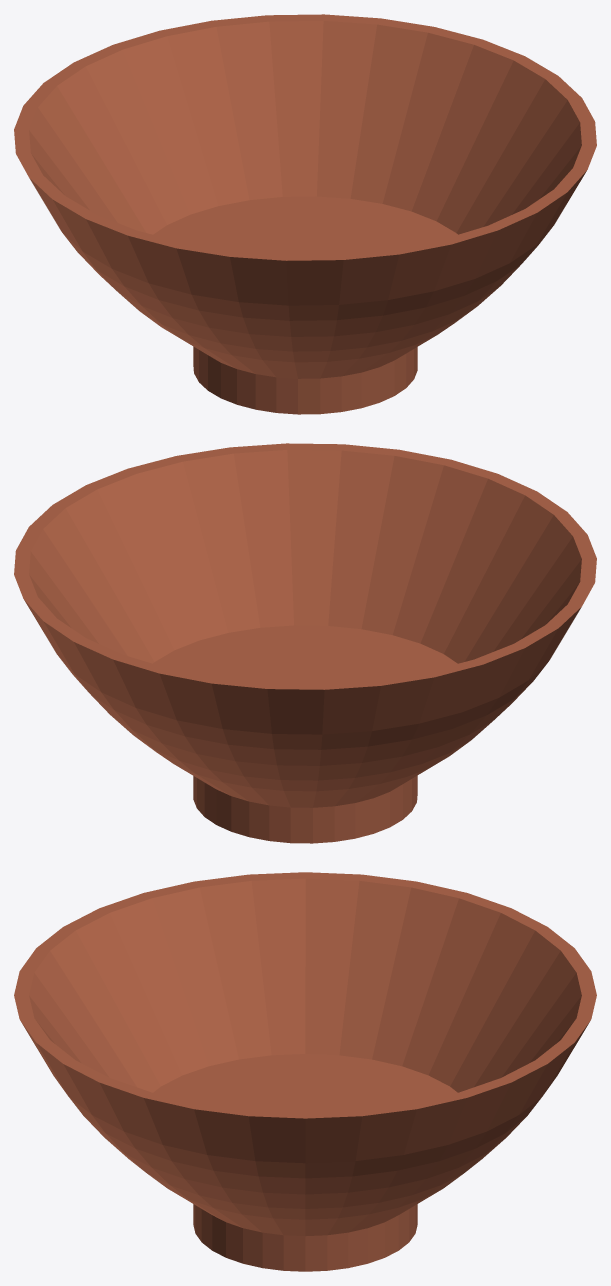
File: bowl.fbx
3 views of the same model, one above another, from view 1: azimuth 30°, elevation 25°; view 2: azimuth 150°, elevation 25°; view 3: azimuth 270°, elevation 25° (orthographic).
Parts seen in each view (by area): view 1: bowl; view 2: bowl; view 3: bowl.
Part boxes in pixels (box(x1,y1,x2,y2)): bowl: box(14, 14, 596, 414); bowl: box(14, 443, 596, 843); bowl: box(14, 872, 596, 1271).
Bounding box in the file's own units: 17 × 7.37 × 17.
